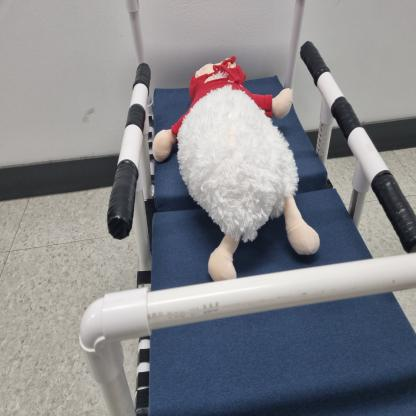yp: (79, 0, 416, 416)
